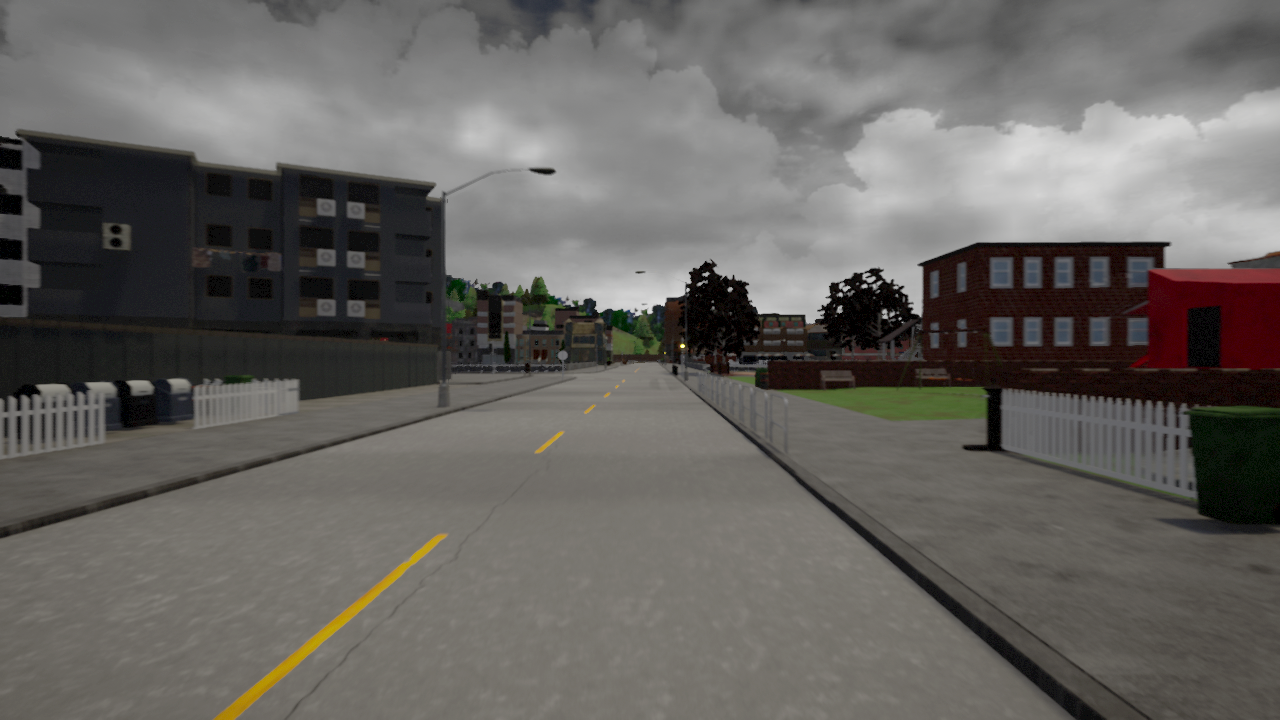yellow: (679, 339, 685, 356)
